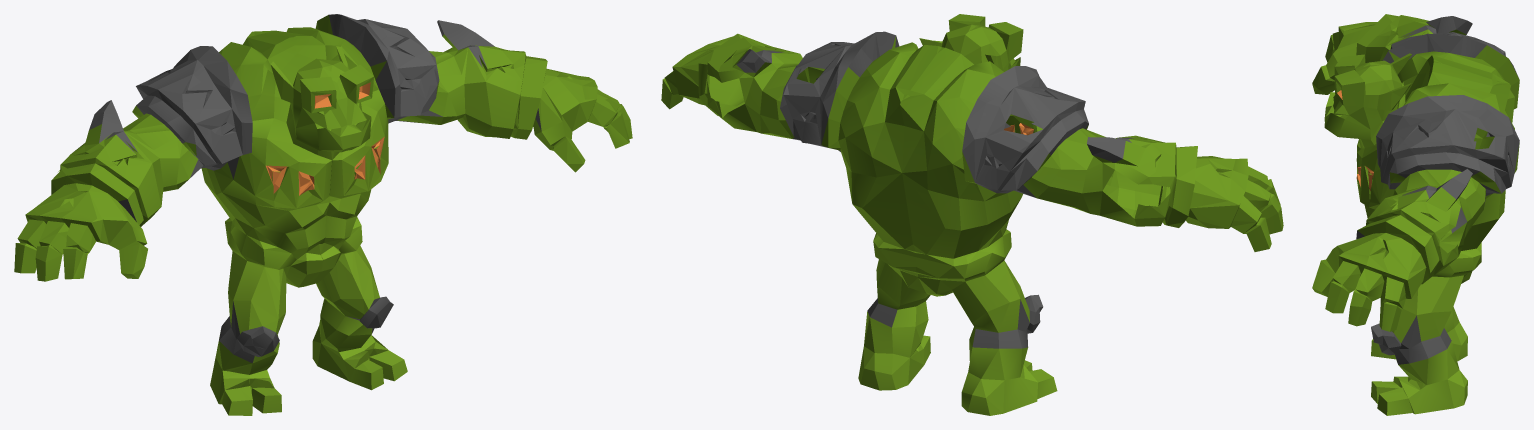
Rendered from Orco.fbx.
3 views of the same model, side by side, from view 1: azimuth 30°, elevation 25°; view 2: azimuth 150°, elevation 25°; view 3: azimuth 270°, elevation 25° (orthographic). The views are drawn at different scales.
Parts seen in each view (by area): view 1: Mesh1.001; view 2: Mesh1.001; view 3: Mesh1.001.
Boxes of the visible parts, bbox=[...] form: Mesh1.001: bbox=[14, 14, 632, 415]; Mesh1.001: bbox=[661, 14, 1283, 415]; Mesh1.001: bbox=[1312, 14, 1519, 415].
Size of the model in its own units: 382 by 205 by 122.
1 material, 1 textured.
